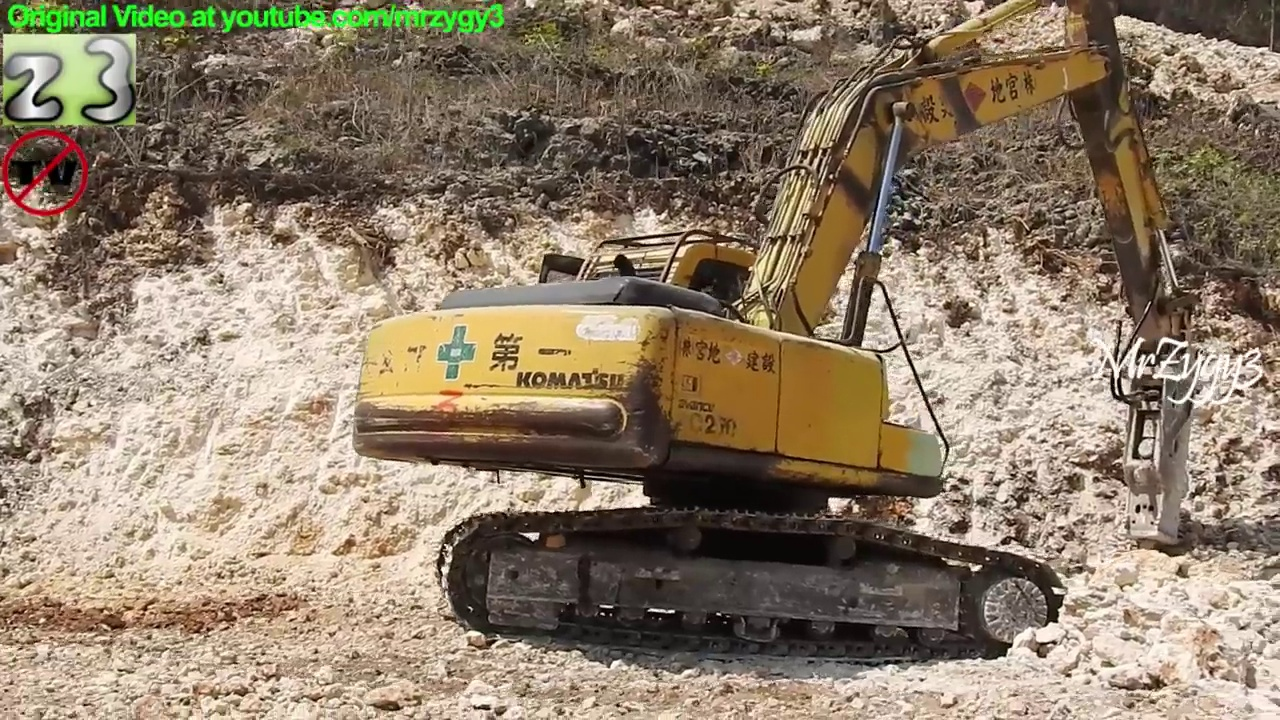excavator breaker: (341, 1, 1210, 676)
